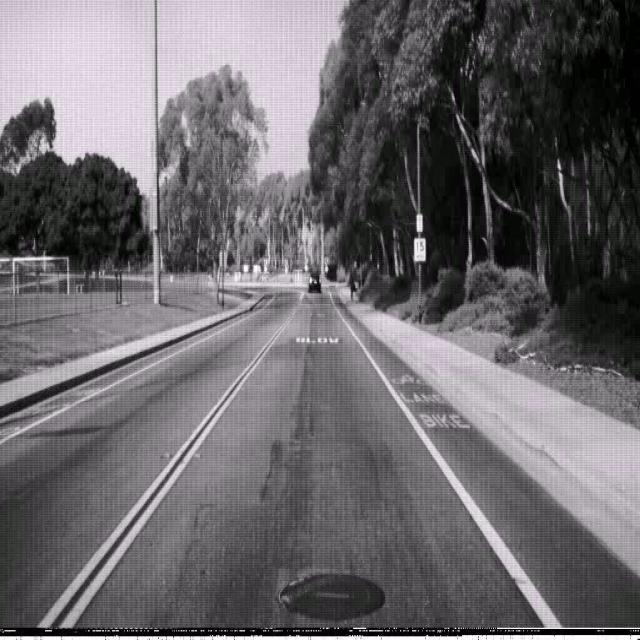speedLimit15: (413, 237, 426, 262)
